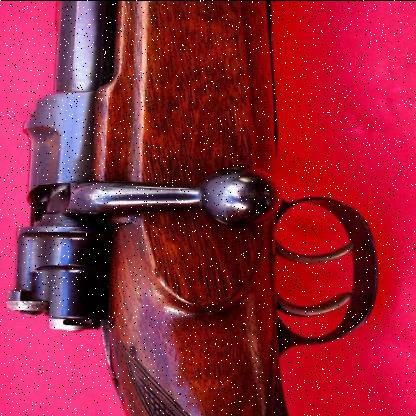rifle: (11, 2, 387, 416)
